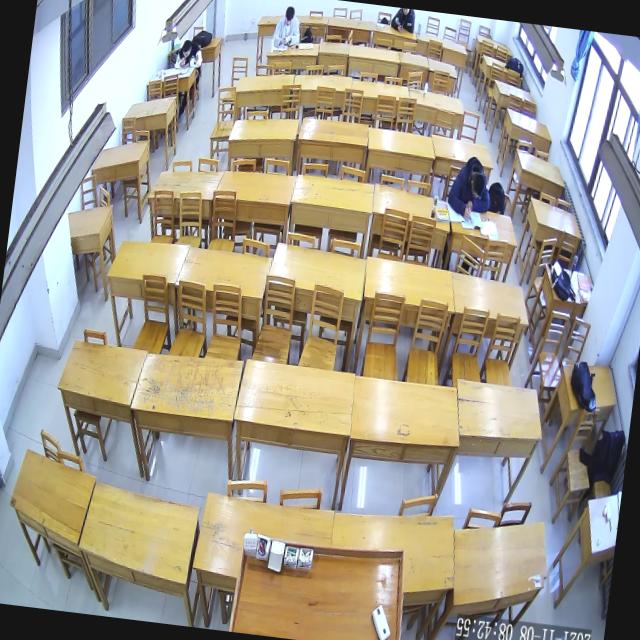bow: (444, 153, 494, 225), (173, 38, 204, 70)
down: (468, 170, 486, 197), (283, 5, 296, 26), (180, 38, 192, 58)
sit: (270, 3, 302, 49)
